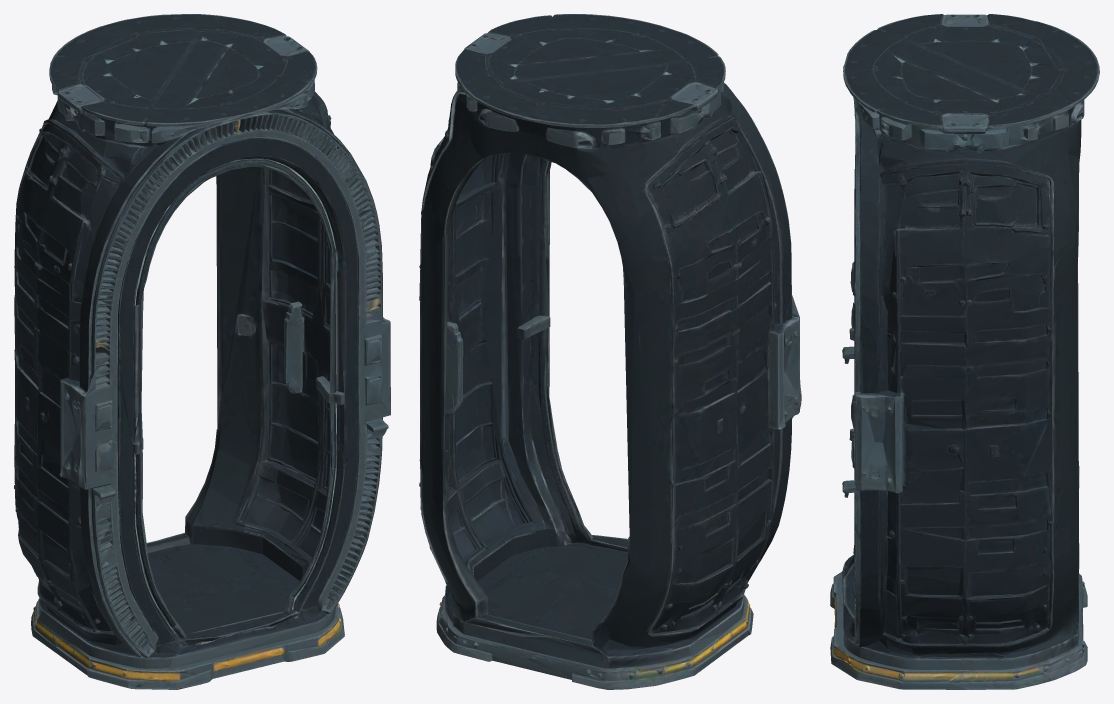
File: orbital-arch.gltf
3 views of the same model, side by side, from view 1: azimuth 30°, elevation 25°; view 2: azimuth 150°, elevation 25°; view 3: azimuth 270°, elevation 25° (orthographic).
Size of the model in its own units: 1.14 by 1.9 by 0.8317.
Materials: 1 (1 with a texture image).
